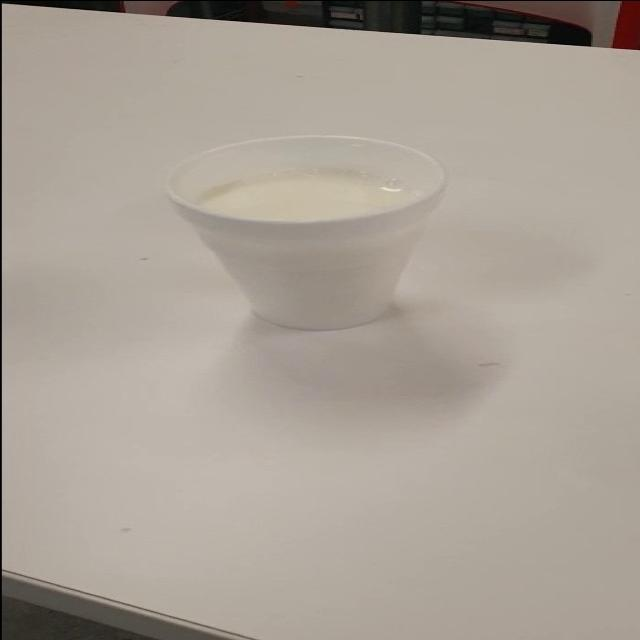Milk: (157, 118, 536, 352)
